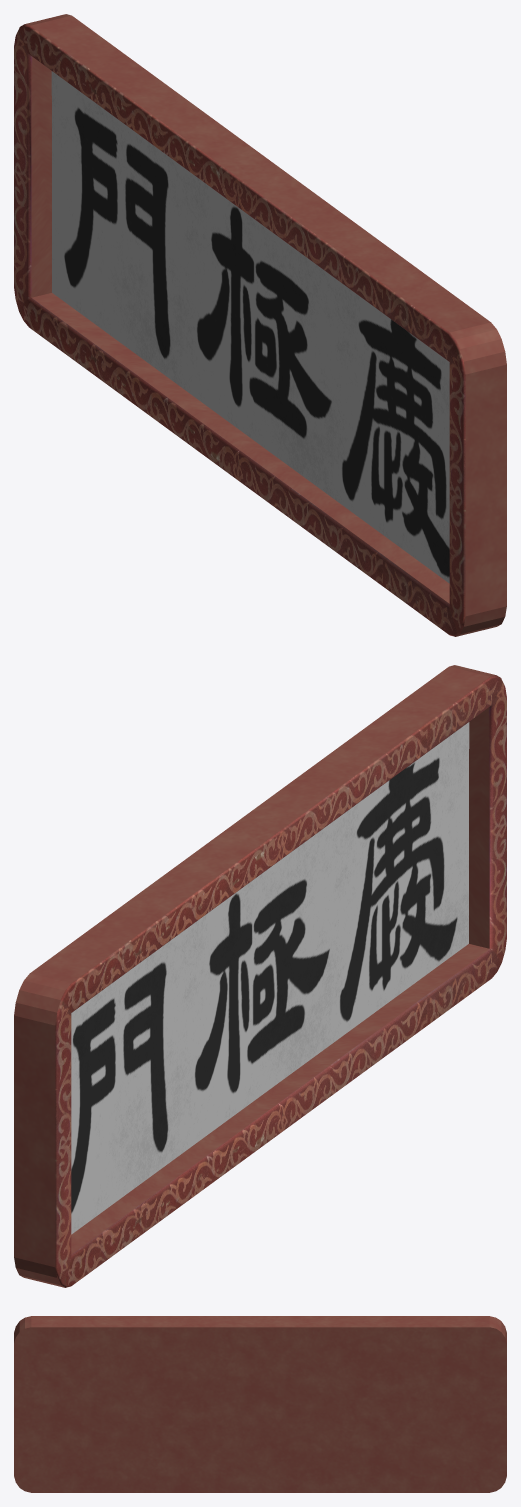
The model's file is SM_Stela05A.fbx.
3 renders of one model, top to bottom at view 1: azimuth 30°, elevation 25°; view 2: azimuth 150°, elevation 25°; view 3: azimuth 270°, elevation 25°, orthographic. The views are drawn at different scales.
Parts seen in each view (by area): view 1: SM_Stela05A; view 2: SM_Stela05A; view 3: SM_Stela05A.
Boxes of the visible parts, x1,y1,x2,y2 form: SM_Stela05A: [14, 14, 506, 636]; SM_Stela05A: [14, 665, 506, 1287]; SM_Stela05A: [14, 1316, 506, 1492].
Bounding box in the file's own units: 4.44 × 80 × 29.66.
Materials: 1 (1 with a texture image).
